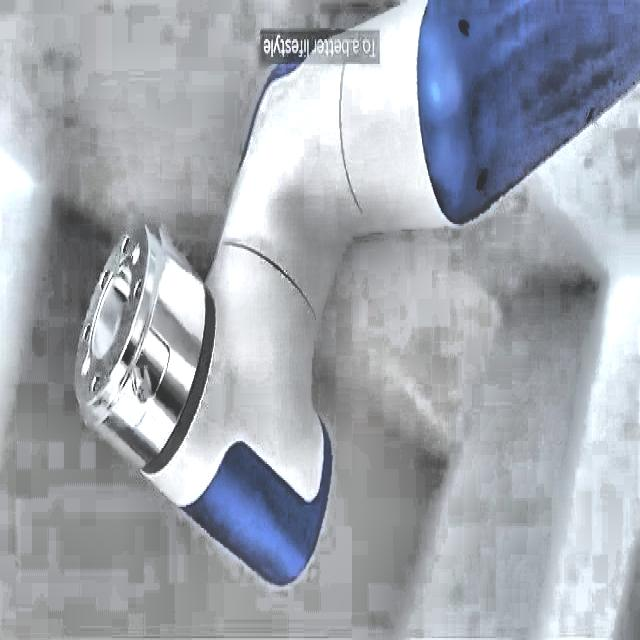robot: (74, 4, 640, 592)
